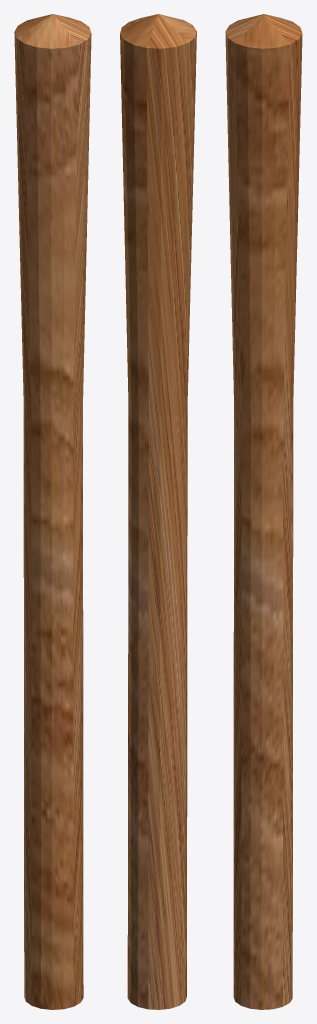
Rendered from taiko_stick.obj.
3 renders of one model, left to right at view 1: azimuth 90°, elevation 25°; view 2: azimuth 210°, elevation 25°; view 3: azimuth 270°, elevation 25°, orthographic.
Visible parts, largest first — view 1: Object15; view 2: Object15; view 3: Object15.
Part boxes in pixels (x1,y1,x2,y2): Object15: (14, 14, 91, 1009); Object15: (120, 14, 196, 1009); Object15: (225, 14, 302, 1009).
Size of the model in its own units: 1.35 by 19.07 by 1.35.
Materials: 1 (1 with a texture image).
